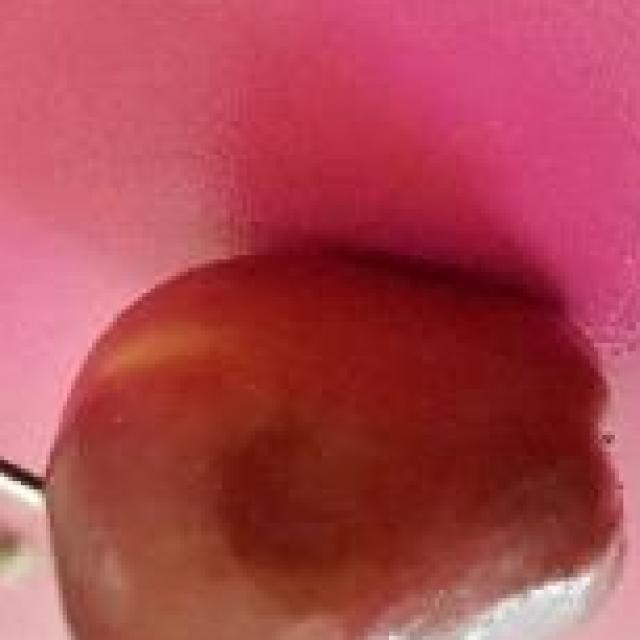Good_Apple 10-21 days: (46, 255, 623, 640)
